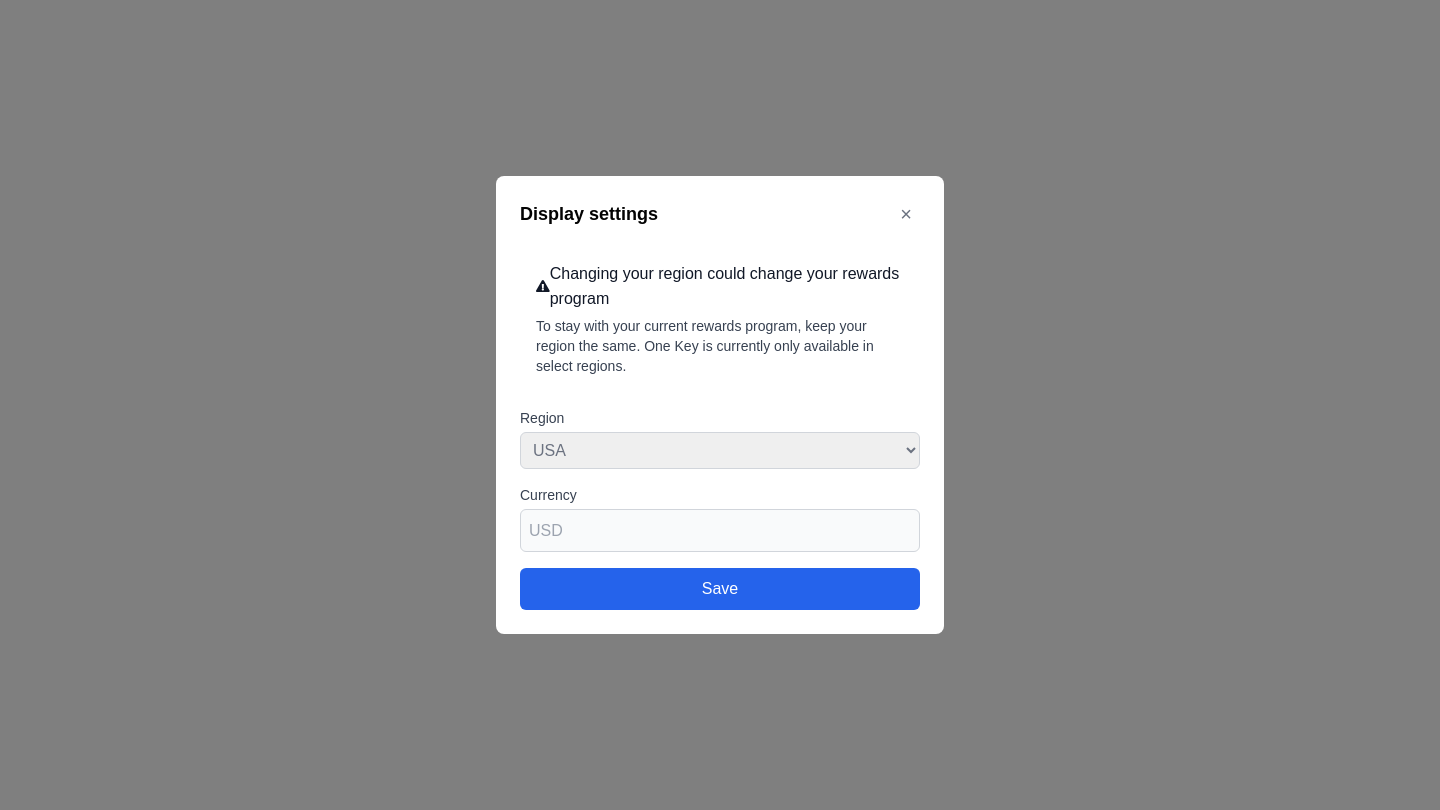
Scenario: NavModal Component › updates region and currency when a new region is selected
Expected: the field labelled "Currency" holds "USD", x1=520 y1=509 x2=920 y2=552
Select "Canada" in the dropdown labelled "Region" at (720, 450), box x1=520 y1=432 x2=920 y2=469
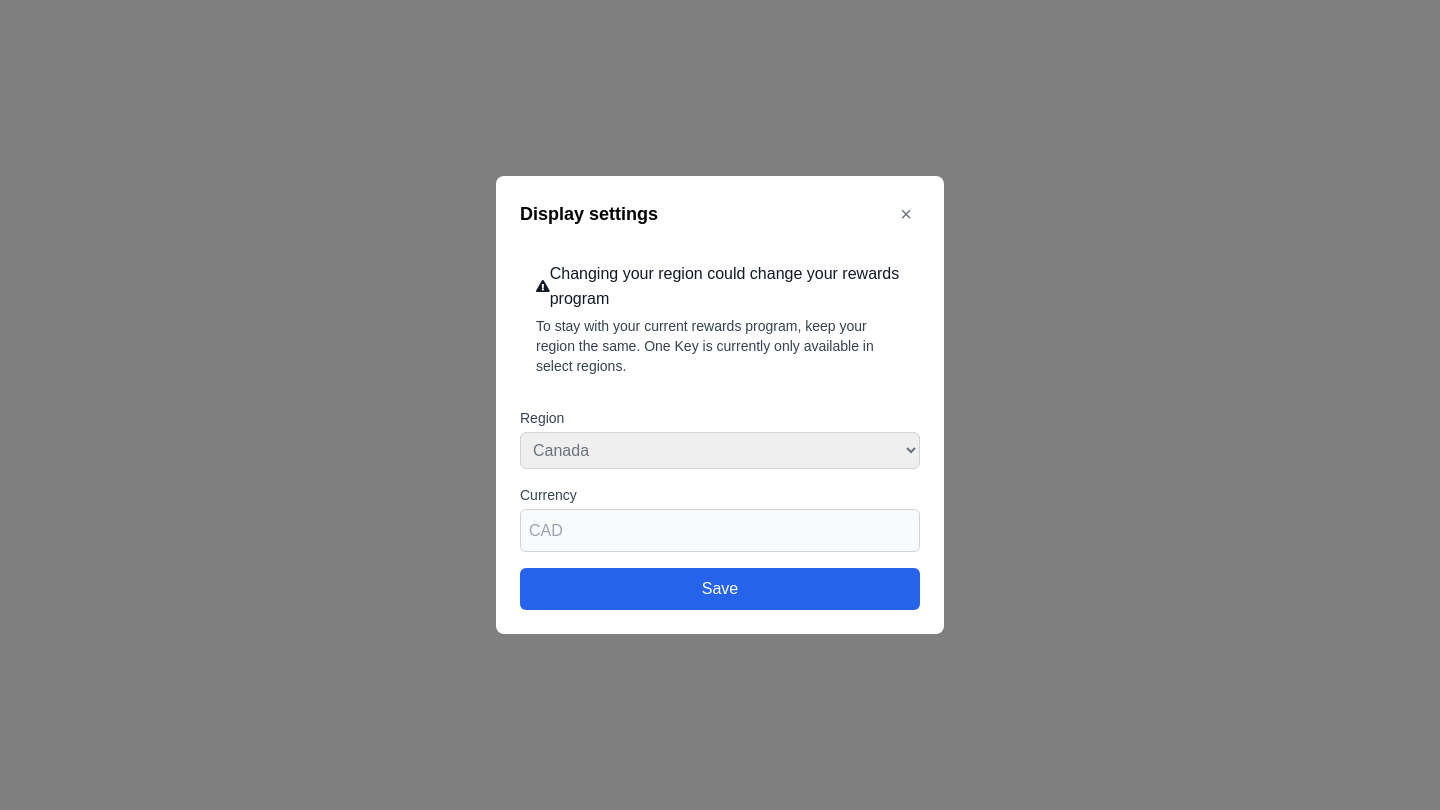
Now the field labelled "Currency" holds "CAD", box x1=520 y1=509 x2=920 y2=552
